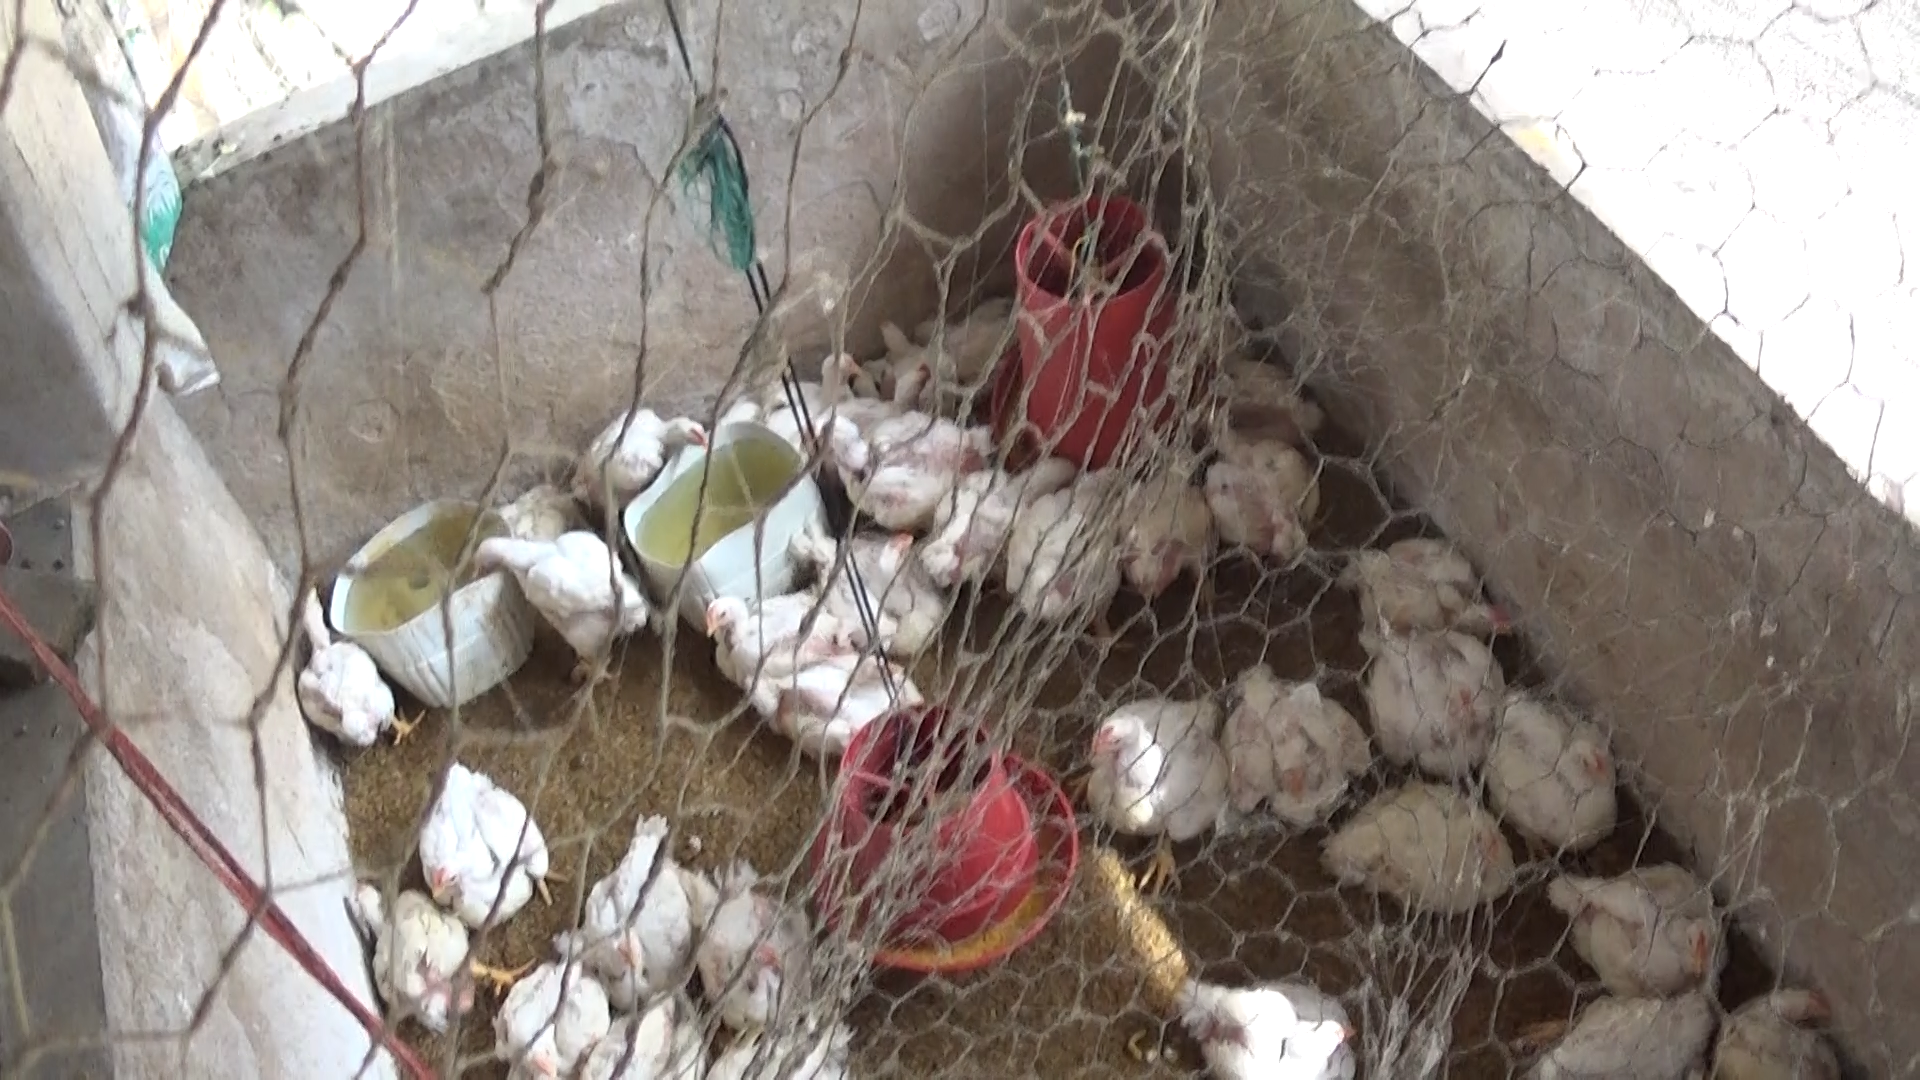Pollos: (454, 529, 657, 665), (407, 748, 571, 911), (1545, 852, 1730, 996), (1309, 766, 1499, 905), (1332, 526, 1528, 658), (272, 583, 429, 746), (1487, 688, 1631, 864), (1168, 963, 1377, 1080), (1360, 626, 1531, 769), (1076, 684, 1230, 843), (1189, 404, 1338, 560), (1006, 463, 1153, 622), (926, 436, 1087, 582), (336, 876, 495, 1022), (688, 857, 816, 1036), (1232, 665, 1370, 825), (795, 522, 942, 658), (495, 918, 612, 1080), (736, 659, 920, 762), (585, 825, 691, 992), (1124, 443, 1222, 607), (861, 425, 1013, 529), (1687, 986, 1840, 1080), (691, 599, 833, 680), (825, 357, 940, 458), (574, 404, 709, 483), (766, 327, 870, 406)
